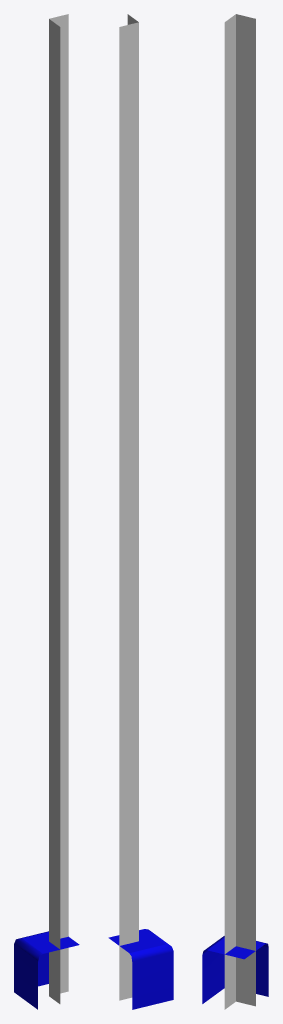
File: PlainWallCornerCorrect.fbx
3 renders of one model, left to right at view 1: azimuth 30°, elevation 25°; view 2: azimuth 210°, elevation 25°; view 3: azimuth 330°, elevation 25°, orthographic.
Parts seen in each view (by area): view 1: Wall, Trim; view 2: Wall, Trim; view 3: Wall, Trim.
Part boxes in pixels (<box>): Wall: <box>49,14,68,1003</box>; Trim: <box>14,931,79,1009</box>; Wall: <box>119,14,138,1000</box>; Trim: <box>108,929,173,1009</box>; Wall: <box>224,14,255,1009</box>; Trim: <box>202,936,268,1003</box>.
Size of the model in its own units: 0.5369 by 12 by 0.5368.
